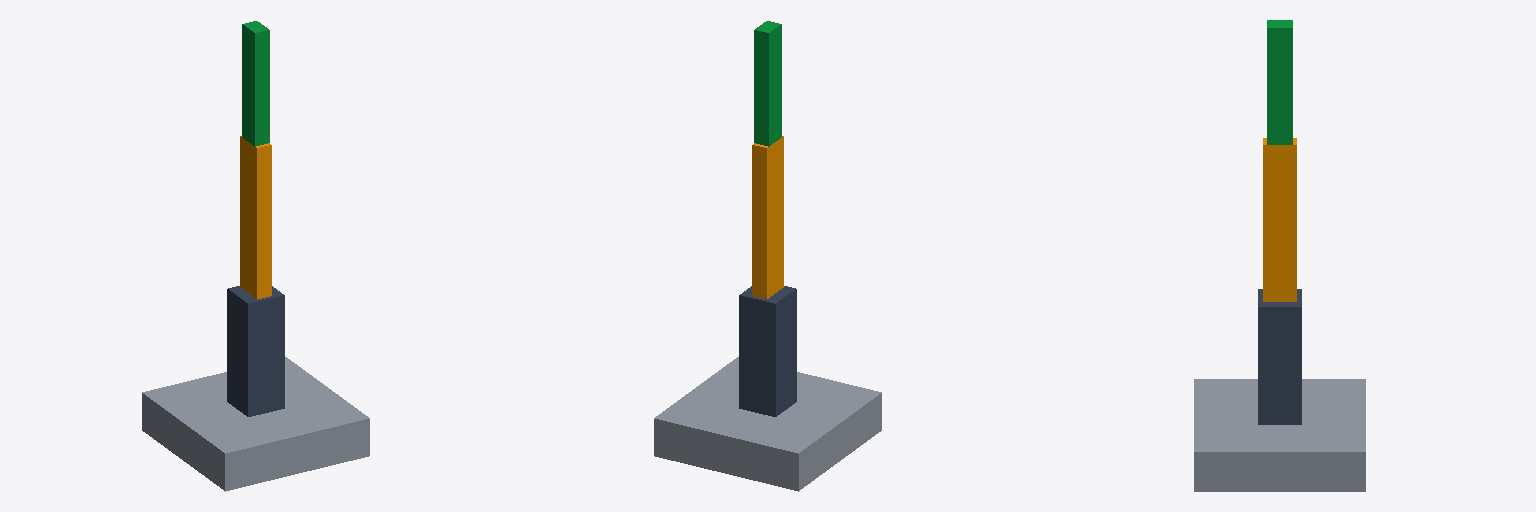
The robot description file, URDF, robot "my_robot":
<?xml version="1.0"?>
<!-- New robot — add links/joints, or import meshes from the Assembly panel. -->
<robot name="my_robot">
  <material name="steel"><color rgba="0.62 0.65 0.69 1"/></material>
  <link name="base_link">
    <inertial>
      <origin xyz="0 0 0" rpy="0 0 0"/>
      <mass value="0.0317"/>
      <inertia ixx="1" ixy="0" ixz="0" iyy="1" iyz="0" izz="1"/>
    </inertial>
    <visual>
      <geometry><box size="0.08 0.08 0.02"/></geometry>
      <material name="steel"/>
    </visual>
  </link>
  <link name="tower">
    <inertial>
      <origin xyz="0 0 0" rpy="0 0 0"/>
      <mass value="0.006"/>
      <inertia ixx="1" ixy="0" ixz="0" iyy="1" iyz="0" izz="1"/>
    </inertial>
    <visual>
      <origin xyz="0 0 0" rpy="0 0 0"/>
      <geometry><box size="0.02 0.02 0.06"/></geometry>
      <material name="box__col"><color rgba="0.2784 0.3333 0.4118 1"/></material>
    </visual>
  </link>
      <joint name="waist" type="revolute">
    <parent link="base_link"/>
    <child link="tower"/>
    <origin xyz="0 0 0.04" rpy="0 0 0"/>
    <axis xyz="0 0 1"/>
    <limit lower="-1.5708" upper="1.5708" effort="1" velocity="1"/>
  </joint>
  <link name="upper_arm">
    <inertial>
      <origin xyz="0.04 0 0" rpy="0 0 0"/>
      <mass value="0.0025"/>
      <inertia ixx="1" ixy="0" ixz="0" iyy="1" iyz="0" izz="1"/>
    </inertial>
    <visual>
      <origin xyz="0.04 0 0" rpy="0 0 0"/>
      <geometry><box size="0.08 0.016 0.008"/></geometry>
      <material name="box__col"><color rgba="0.9608 0.6196 0.0431 1"/></material>
    </visual>
  </link>
        <joint name="shoulder" type="revolute">
    <parent link="tower"/>
    <child link="upper_arm"/>
    <origin xyz="0 0 0.03" rpy="0 -1.5708 0"/>
    <axis xyz="0 1 0"/>
    <limit lower="-1.5708" upper="1.5708" effort="1" velocity="1"/>
  </joint>
  <link name="forearm">
    <inertial>
      <origin xyz="0.03 0 0" rpy="0 0 0"/>
      <mass value="0.0014"/>
      <inertia ixx="1" ixy="0" ixz="0" iyy="1" iyz="0" izz="1"/>
    </inertial>
    <visual>
      <origin xyz="0.03 0 0" rpy="0 0 0"/>
      <geometry><box size="0.06 0.012 0.008"/></geometry>
      <material name="box__col"><color rgba="0.0863 0.6392 0.2902 1"/></material>
    </visual>
  </link>
        <joint name="elbow" type="revolute">
    <parent link="upper_arm"/>
    <child link="forearm"/>
    <origin xyz="0.08 0 0" rpy="0 0 0"/>
    <axis xyz="0 1 0"/>
    <limit lower="-1.5708" upper="1.5708" effort="1" velocity="1"/>
  </joint>
</robot>

--- Render facts (derived) ---
The picture shows the robot from 3 angles, left to right: view 1: azimuth 30°, elevation 25°; view 2: azimuth 150°, elevation 25°; view 3: azimuth 270°, elevation 25°; orthographic projection.
Robot: my_robot — 4 links, 3 joints (3 revolute); root link base_link; default pose: every joint at zero.
Links seen in each view (by area): view 1: base_link, tower, upper_arm, forearm; view 2: base_link, tower, upper_arm, forearm; view 3: base_link, tower, upper_arm, forearm.
Link boxes in pixels (<box>): base_link: <box>142,357,369,491</box>; tower: <box>227,286,284,416</box>; upper_arm: <box>240,136,271,299</box>; forearm: <box>242,21,269,146</box>; base_link: <box>654,357,881,491</box>; tower: <box>739,286,796,416</box>; upper_arm: <box>752,136,783,299</box>; forearm: <box>754,21,781,146</box>; base_link: <box>1194,379,1365,491</box>; tower: <box>1258,289,1301,424</box>; upper_arm: <box>1263,138,1296,301</box>; forearm: <box>1267,20,1292,144</box>.
Size in the robot's own frame: 0.08 by 0.08 by 0.22 metres.
Geometry: primitives only (box / cylinder / sphere), no mesh files.
